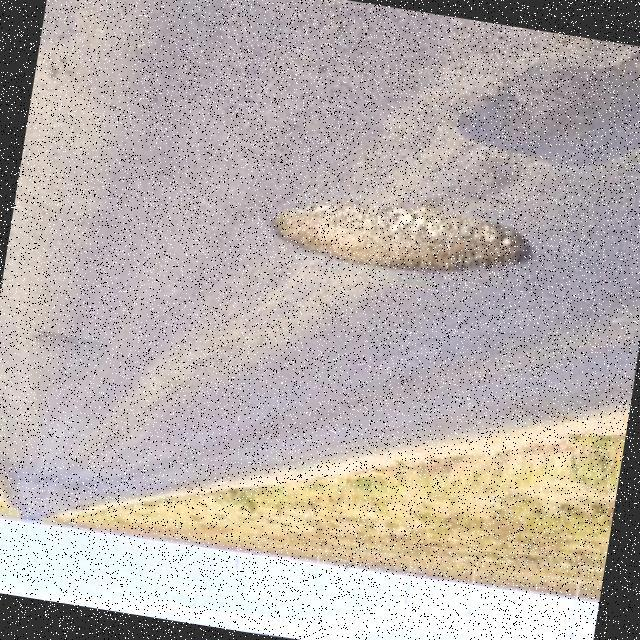Pothole: (271, 203, 533, 273)
